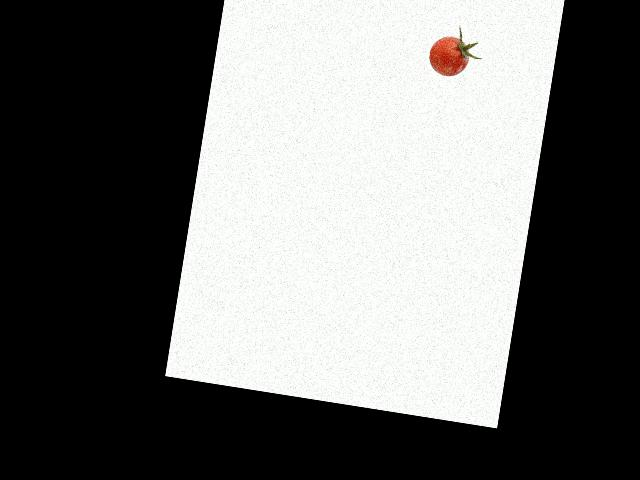tomato: (426, 34, 471, 79)
